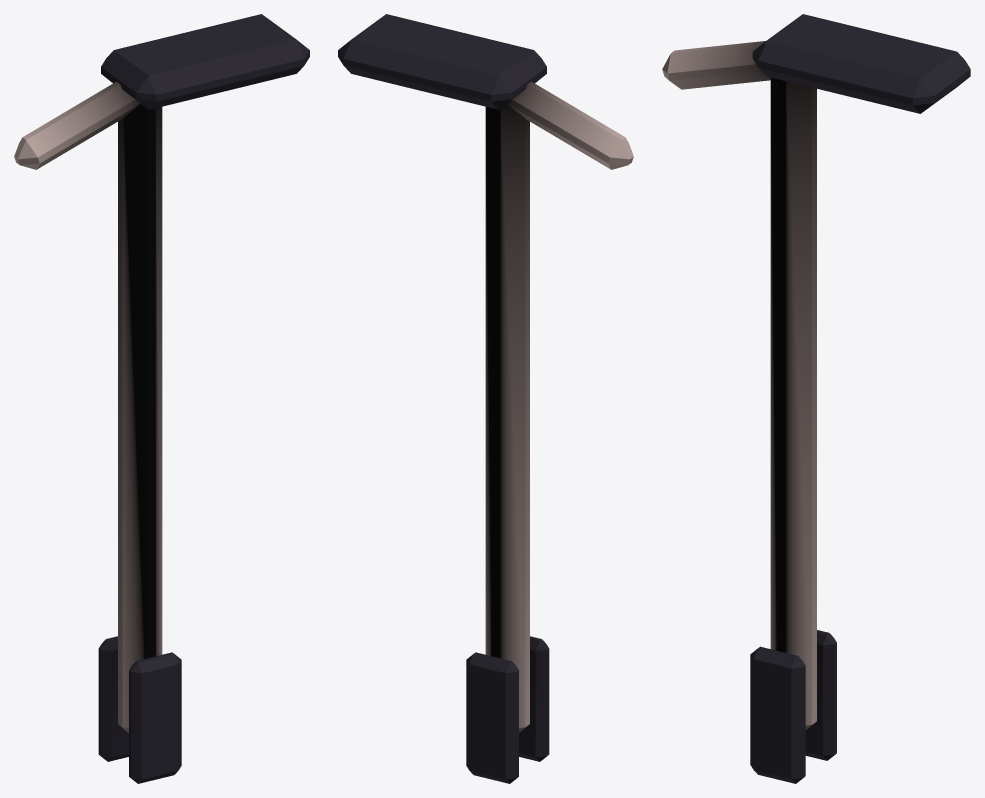
File: wpn.halligan.glb
3 views of the same model, side by side, from view 1: azimuth 30°, elevation 25°; view 2: azimuth 150°, elevation 25°; view 3: azimuth 330°, elevation 25° (orthographic). The views are drawn at different scales.
Visible parts, largest first — view 1: body; view 2: body; view 3: body.
Boxes of the visible parts, x1=… form: body: x1=14, y1=14, x2=309, y2=783; body: x1=338, y1=14, x2=633, y2=783; body: x1=662, y1=14, x2=970, y2=783.
Size of the model in its own units: 0.3814 by 0.9325 by 0.12.
